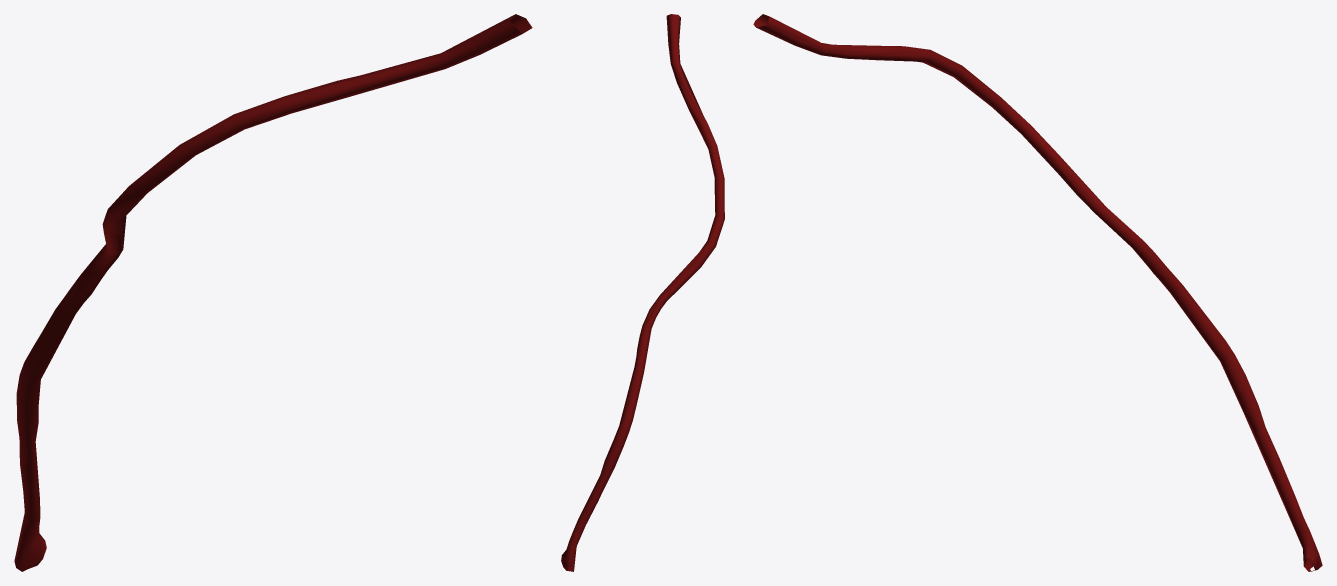
File: L saphena.fbx
3 views of the same model, side by side, from view 1: azimuth 30°, elevation 25°; view 2: azimuth 150°, elevation 25°; view 3: azimuth 270°, elevation 25° (orthographic). The views are drawn at different scales.
Visible parts, largest first — view 1: L saphena, L saphena low; view 2: L saphena, L saphena low; view 3: L saphena, L saphena low.
Boxes of the visible parts, x1,y1,x2,y2 form: L saphena: (16, 14, 532, 571); L saphena low: (14, 14, 529, 571); L saphena: (561, 14, 724, 571); L saphena low: (562, 14, 723, 571); L saphena: (754, 14, 1322, 571); L saphena low: (753, 14, 1319, 568).
Bounding box in the file's own units: 7.44 × 21.41 × 18.01.
